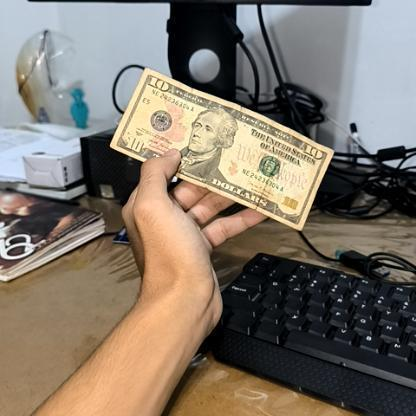ten-front: (109, 66, 334, 231)
